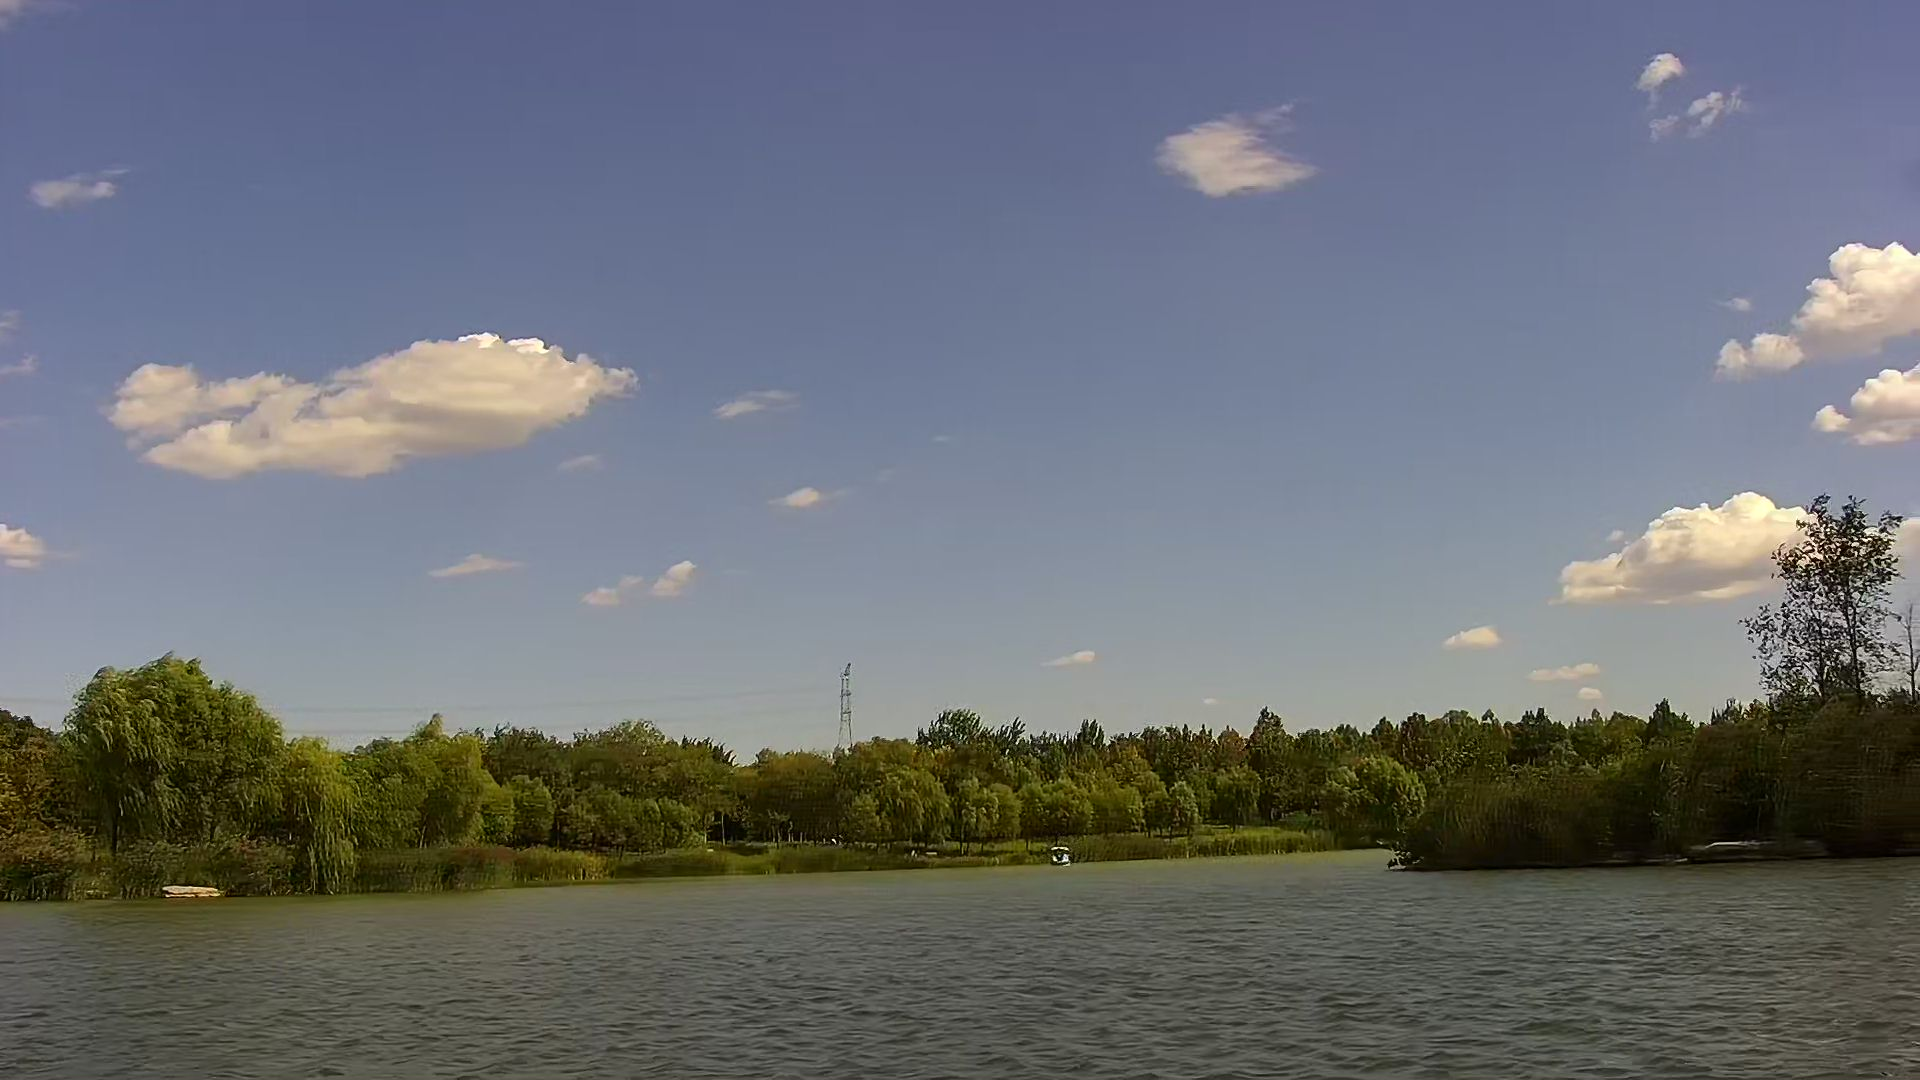boat: (1052, 843, 1069, 866)
rock: (162, 881, 216, 901)
